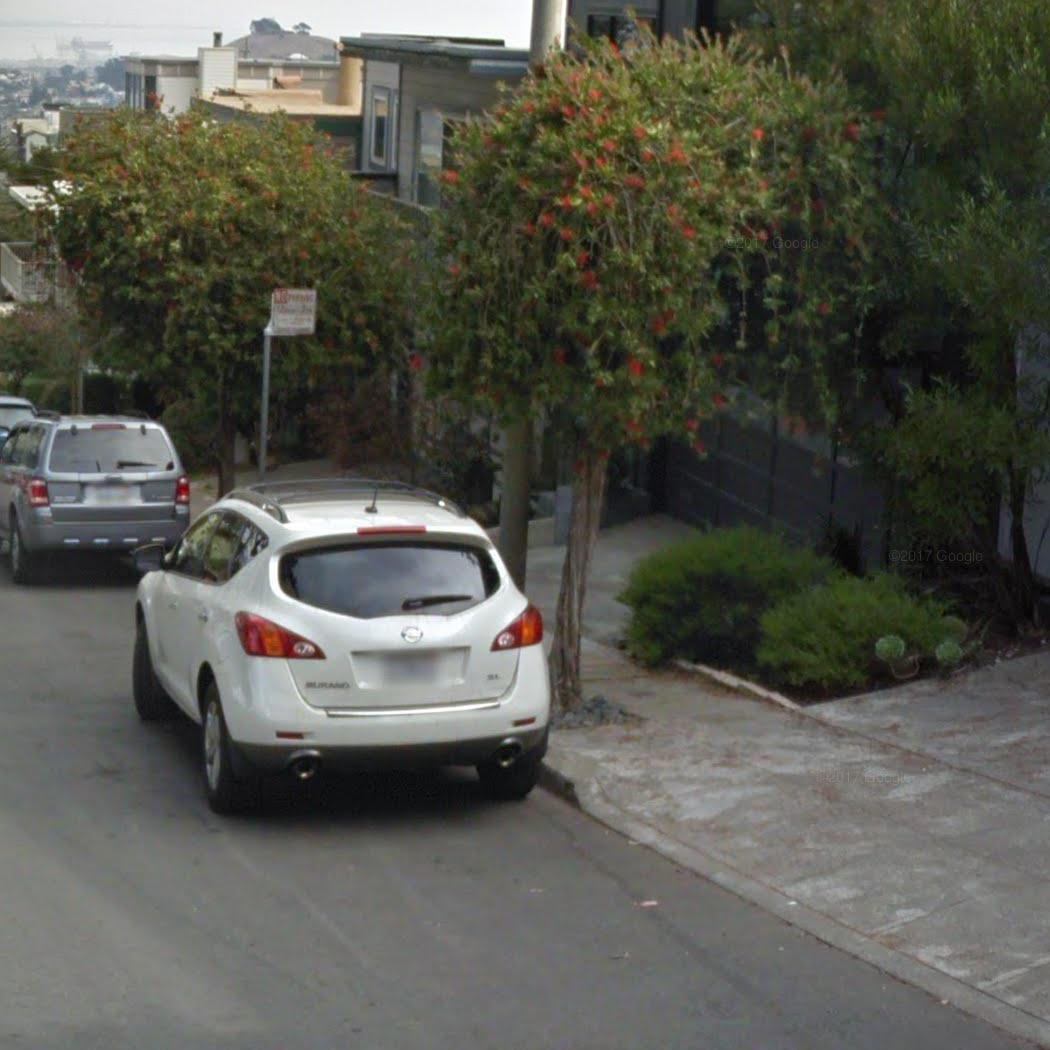No Parking: (269, 285, 319, 338)
